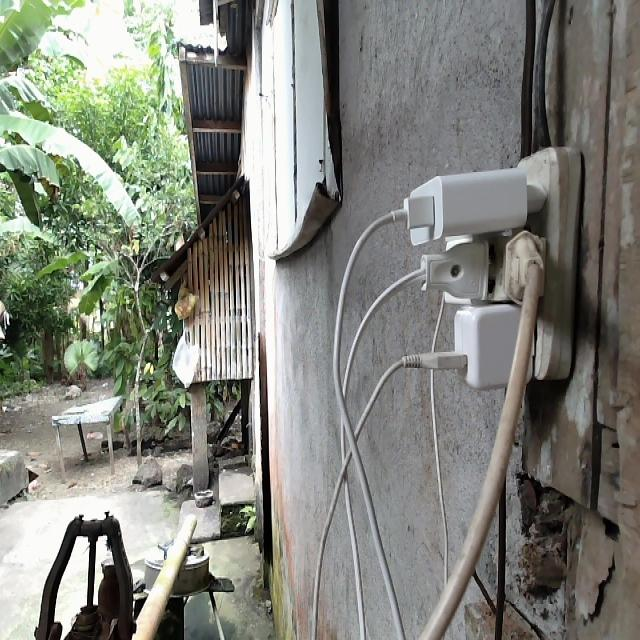-: (372, 147, 590, 393)
